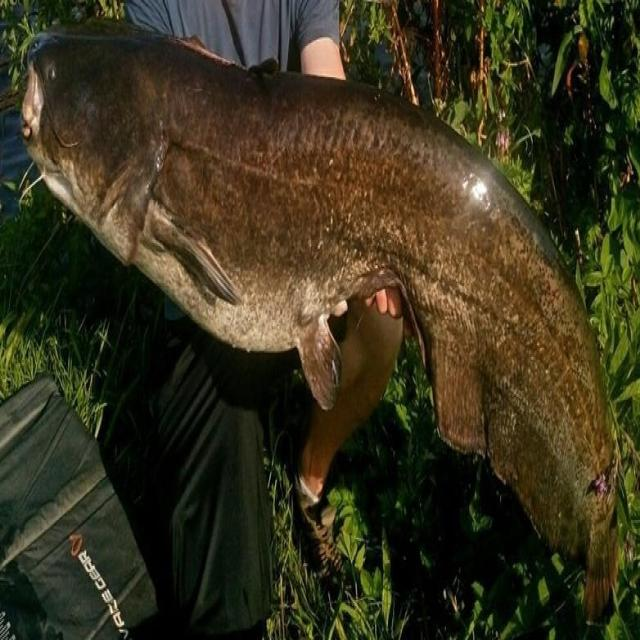Catfish: (16, 22, 626, 640)
